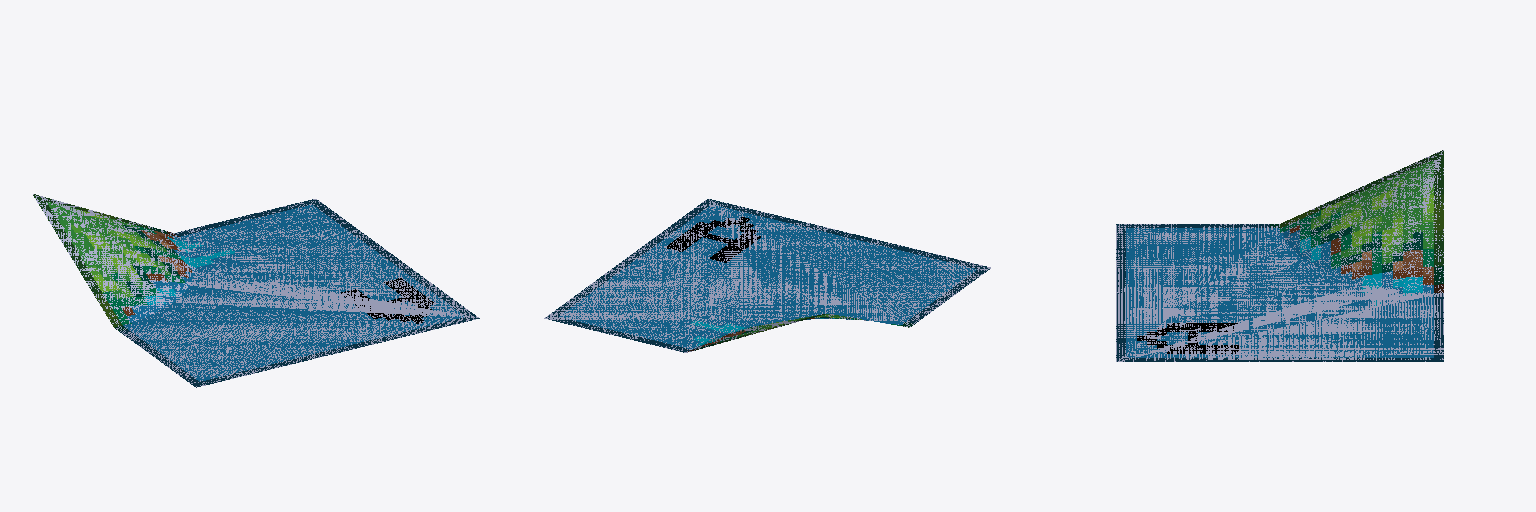
The picture shows the model from 3 angles: view 1: azimuth 30°, elevation 25°; view 2: azimuth 150°, elevation 25°; view 3: azimuth 270°, elevation 25°; orthographic projection.
Visible parts, largest first — view 1: Mesh1 Model; view 2: Mesh1 Model; view 3: Mesh1 Model.
Part boxes in pixels (left/top/right/bottom): Mesh1 Model: left=33, top=194, right=479, bottom=387; Mesh1 Model: left=544, top=199, right=990, bottom=352; Mesh1 Model: left=1116, top=150, right=1443, bottom=361.
Size of the model in its own units: 32 by 8 by 32.
2 materials, 1 textured.